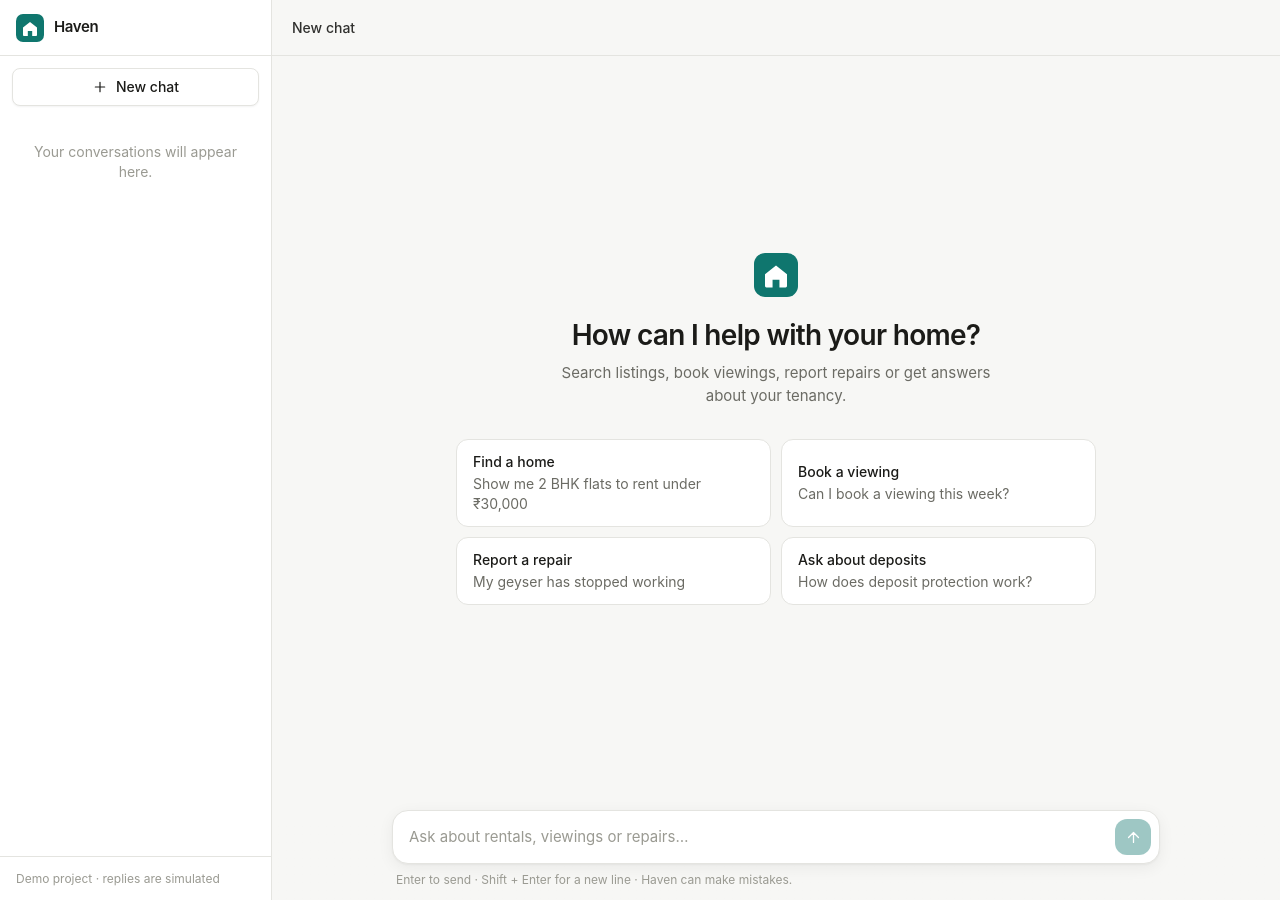
App › shows suggestions on an empty chat and disables Send until there is text
Expected: the heading "How can I help with your home?" is shown, left=572, top=317, right=980, bottom=354
Expected: the button named "send message" is disabled, left=1115, top=819, right=1151, bottom=855
Type "Hi" into the text box named "message haven".
click(758, 837); type("Hi")  # box left=409, top=819, right=1107, bottom=855
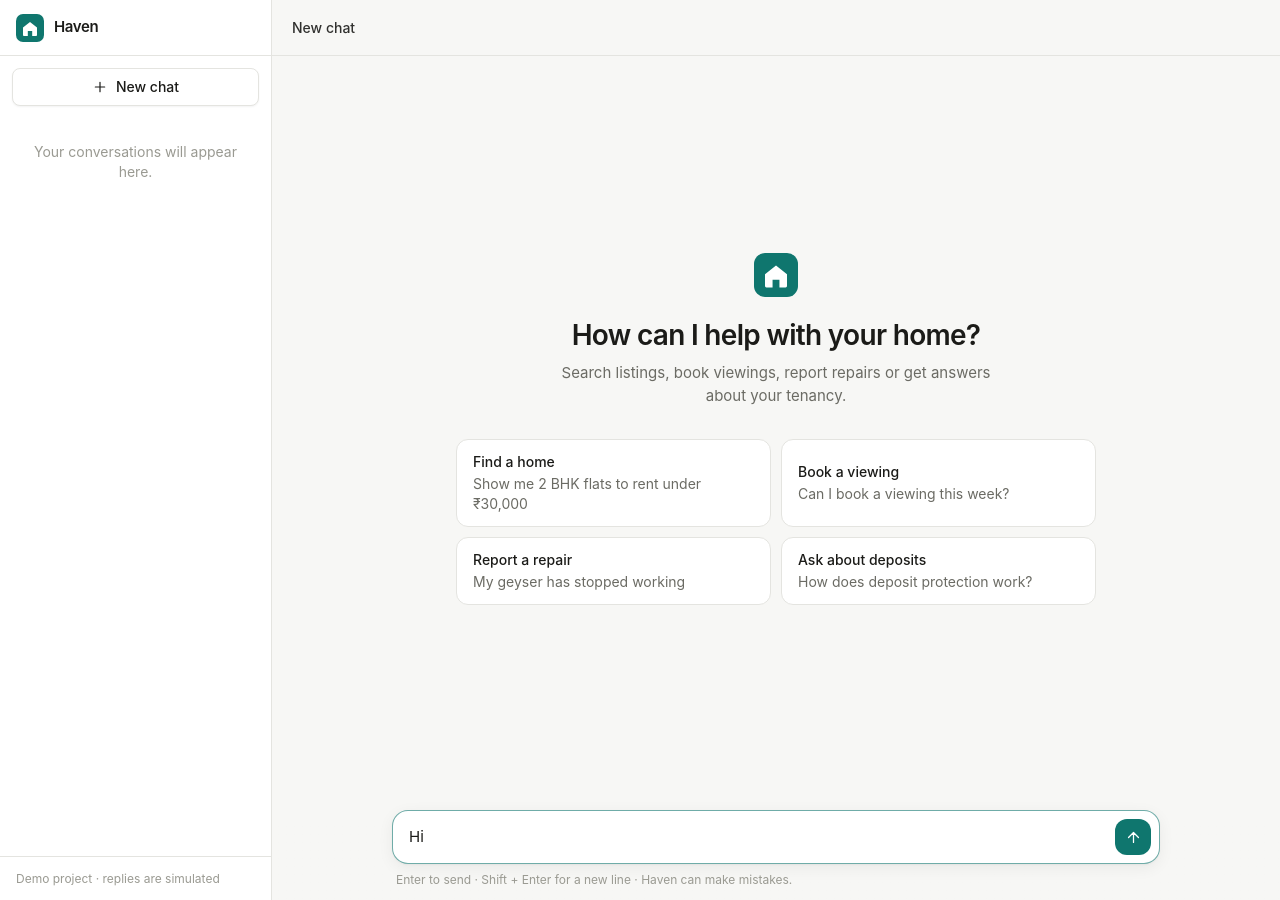
Now the button named "send message" is enabled, box left=1115, top=819, right=1151, bottom=855
